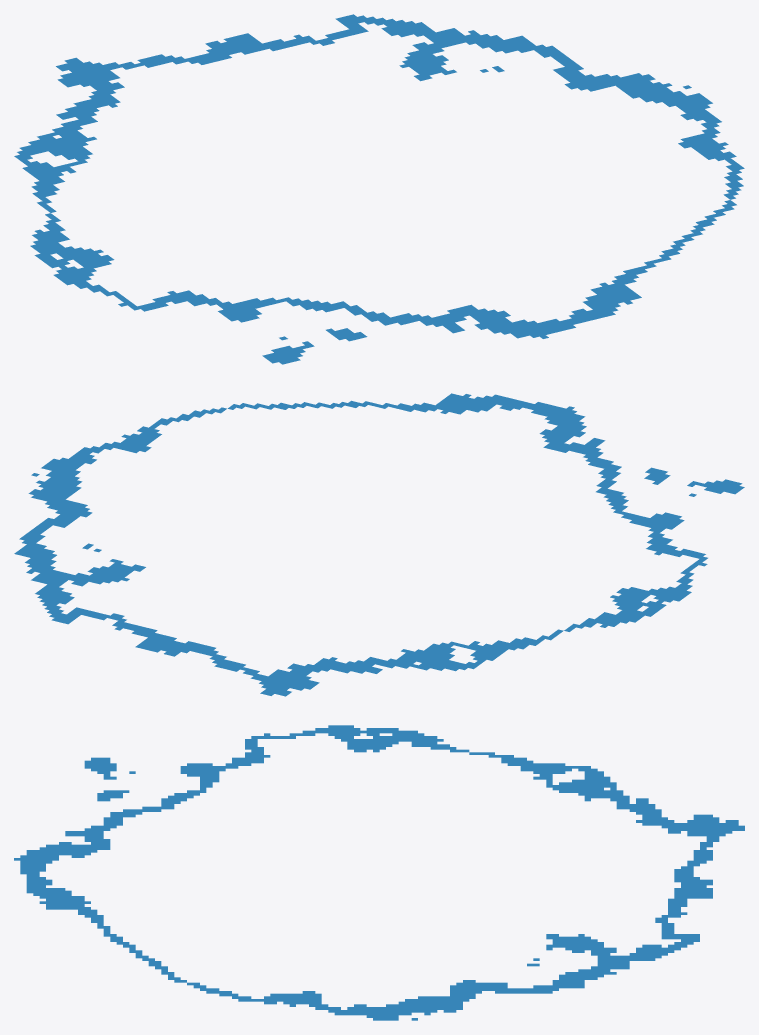
Rendered from Isl-flat1-PlaceForWaterObjects.fbx.
3 renders of one model, top to bottom at view 1: azimuth 30°, elevation 25°; view 2: azimuth 150°, elevation 25°; view 3: azimuth 270°, elevation 25°, orthographic. The views are drawn at different scales.
Parts seen in each view (by area): view 1: Isl-flat1-PlaceForWaterObjects; view 2: Isl-flat1-PlaceForWaterObjects; view 3: Isl-flat1-PlaceForWaterObjects.
Part boxes in pixels (x1,y1,x2,y2): Isl-flat1-PlaceForWaterObjects: (14, 14, 744, 364); Isl-flat1-PlaceForWaterObjects: (14, 393, 744, 696); Isl-flat1-PlaceForWaterObjects: (14, 725, 744, 1020).
Bounding box in the file's own units: 109 × 0 × 114.
